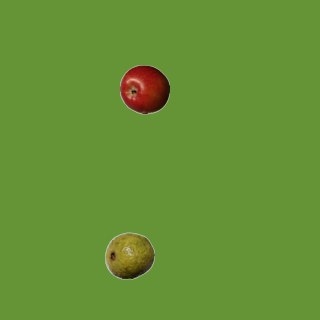Apple Braeburn: (119, 64, 169, 114)
Guava: (104, 230, 154, 280)
